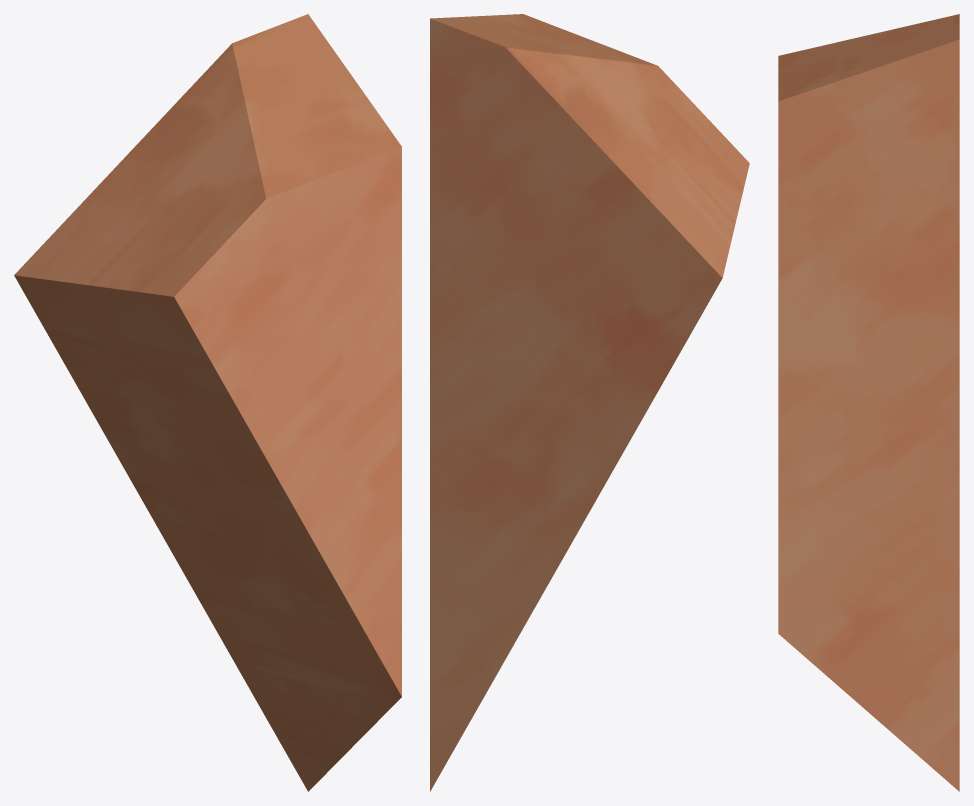
Rendered from wall2_plain_s08.fbx.
3 renders of one model, left to right at view 1: azimuth 30°, elevation 25°; view 2: azimuth 150°, elevation 25°; view 3: azimuth 270°, elevation 25°, orthographic. The views are drawn at different scales.
Parts seen in each view (by area): view 1: wall2_plain_s08; view 2: wall2_plain_s08; view 3: wall2_plain_s08.
Part boxes in pixels (x1=…): wall2_plain_s08: x1=14, y1=14, x2=401, y2=791; wall2_plain_s08: x1=430, y1=14, x2=749, y2=791; wall2_plain_s08: x1=778, y1=14, x2=959, y2=791.
Size of the model in its own units: 1.81 by 4.58 by 1.
